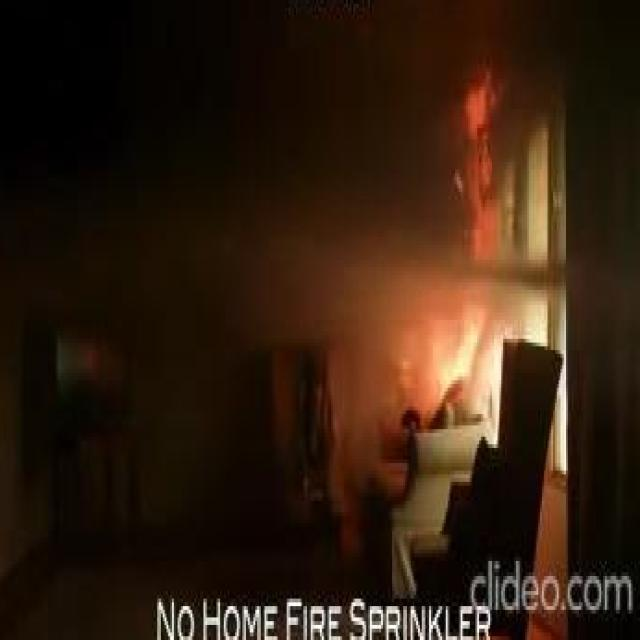smoke: (451, 79, 503, 275), (436, 320, 481, 403)
